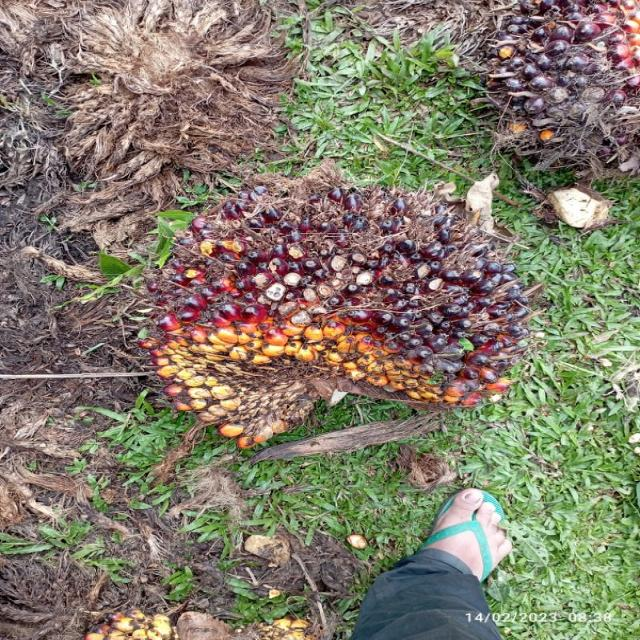fraksi 1: (137, 163, 508, 461)
